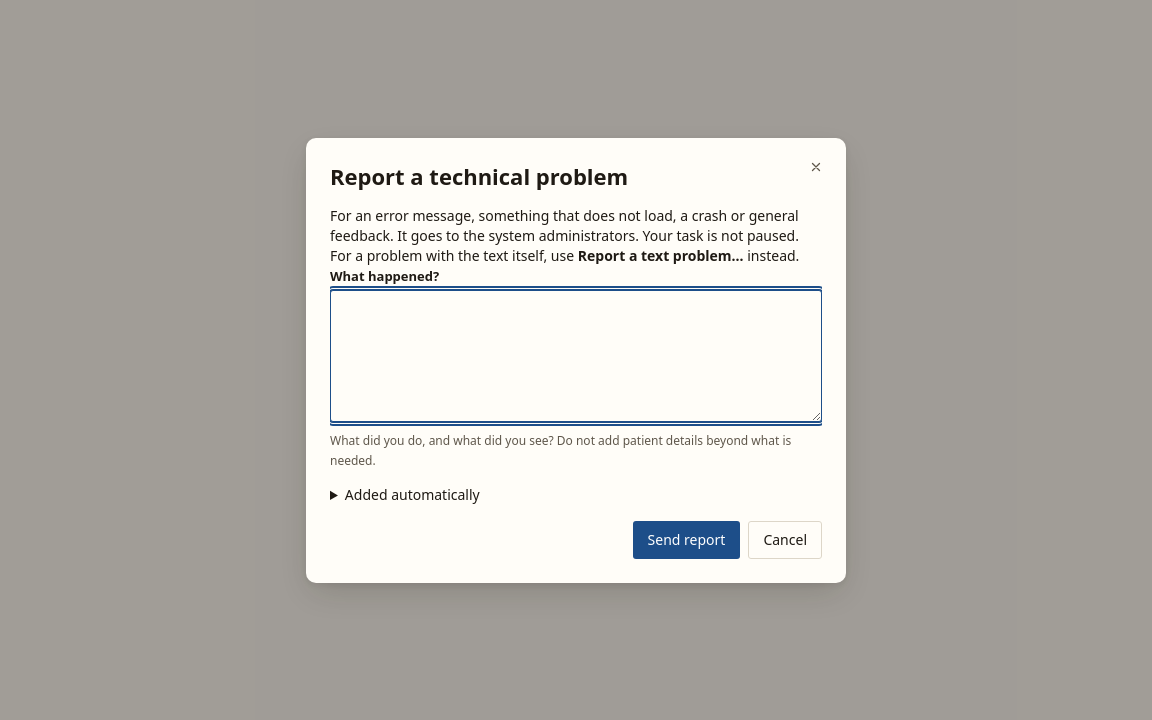
Test: Report a technical problem › explains a refused report and keeps the text
The width and height of the screenshot is (1152, 720).
Step 1. Type "Again" into the text box labelled "What happened?" → (576,356), box left=330, top=290, right=822, bottom=422
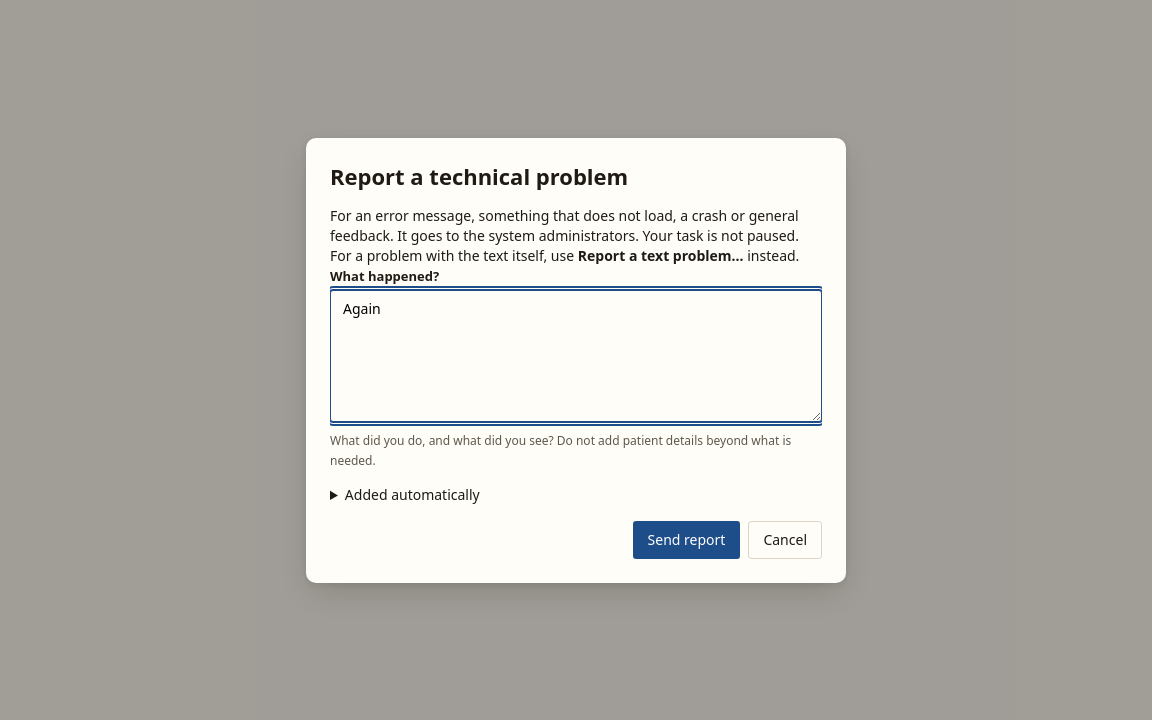
Step 2. Click the button "Send report" → (686,540), box left=633, top=520, right=740, bottom=558
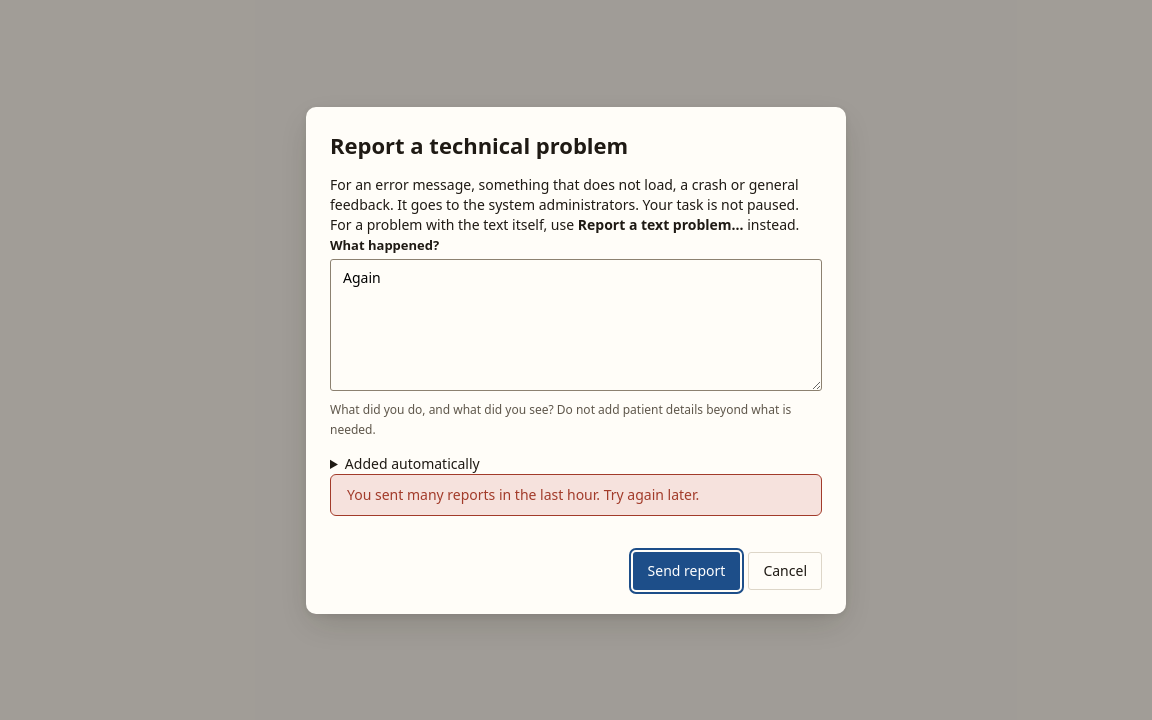
Expected: the text "You sent many reports in the last hour. Try again later." is shown, left=347, top=484, right=699, bottom=504
